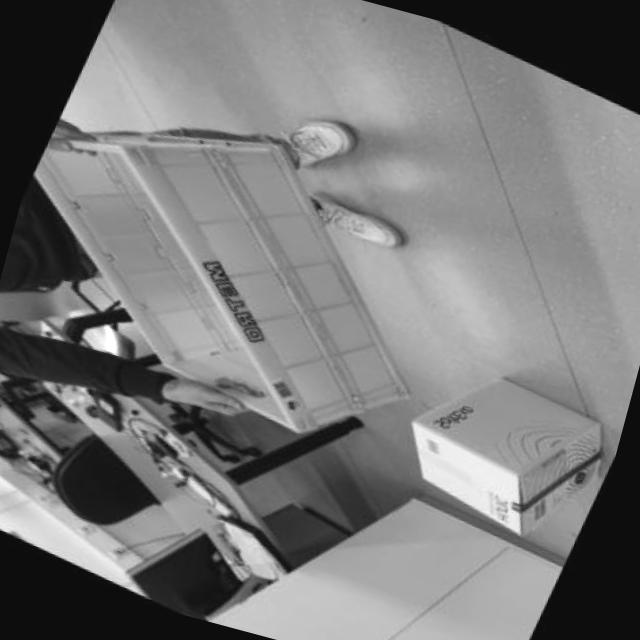box: (0, 46, 501, 491), (364, 311, 638, 565)
